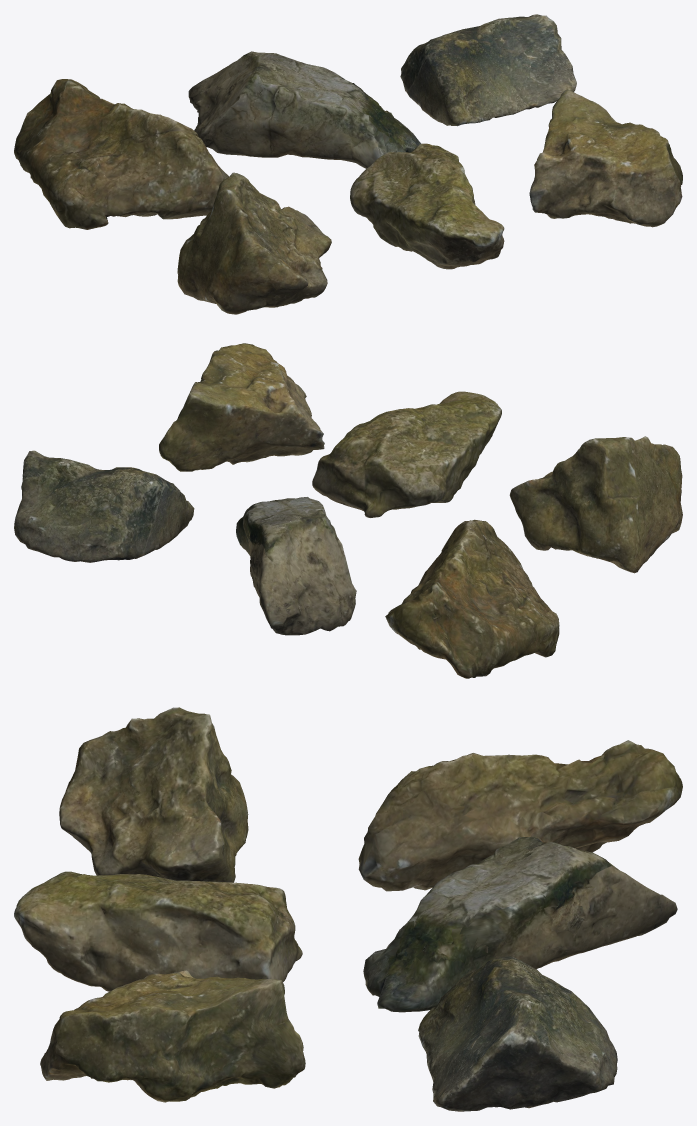
File: rock_moss_set_01.glb
3 renders of one model, top to bottom at view 1: azimuth 30°, elevation 25°; view 2: azimuth 150°, elevation 25°; view 3: azimuth 270°, elevation 25°, orthographic. The views are drawn at different scales.
Visible parts, largest first — view 1: rock_moss_set_01_rock01, rock_moss_set_01_rock02, rock_moss_set_01_rock06, rock_moss_set_01_rock04, rock_moss_set_01_rock03, rock_moss_set_01_rock05; view 2: rock_moss_set_01_rock04, rock_moss_set_01_rock01, rock_moss_set_01_rock05, rock_moss_set_01_rock03, rock_moss_set_01_rock06, rock_moss_set_01_rock02; view 3: rock_moss_set_01_rock01, rock_moss_set_01_rock02, rock_moss_set_01_rock05, rock_moss_set_01_rock06, rock_moss_set_01_rock04, rock_moss_set_01_rock03.
Part boxes in pixels (bbox=[...]): rock_moss_set_01_rock01: bbox=[14, 79, 228, 229]; rock_moss_set_01_rock02: bbox=[188, 51, 420, 168]; rock_moss_set_01_rock06: bbox=[529, 89, 682, 227]; rock_moss_set_01_rock04: bbox=[177, 172, 331, 314]; rock_moss_set_01_rock03: bbox=[400, 14, 576, 126]; rock_moss_set_01_rock05: bbox=[350, 143, 504, 269]; rock_moss_set_01_rock04: bbox=[509, 436, 682, 573]; rock_moss_set_01_rock01: bbox=[385, 519, 559, 678]; rock_moss_set_01_rock05: bbox=[312, 391, 501, 517]; rock_moss_set_01_rock03: bbox=[14, 450, 194, 562]; rock_moss_set_01_rock06: bbox=[159, 343, 324, 471]; rock_moss_set_01_rock02: bbox=[236, 497, 356, 635]; rock_moss_set_01_rock01: bbox=[358, 740, 682, 891]; rock_moss_set_01_rock02: bbox=[363, 836, 677, 1012]; rock_moss_set_01_rock05: bbox=[14, 871, 302, 991]; rock_moss_set_01_rock06: bbox=[40, 970, 305, 1102]; rock_moss_set_01_rock04: bbox=[59, 707, 248, 882]; rock_moss_set_01_rock03: bbox=[418, 956, 617, 1111].
Size of the model in its own units: 8 by 1.77 by 6.95.
1 material, 1 textured.
